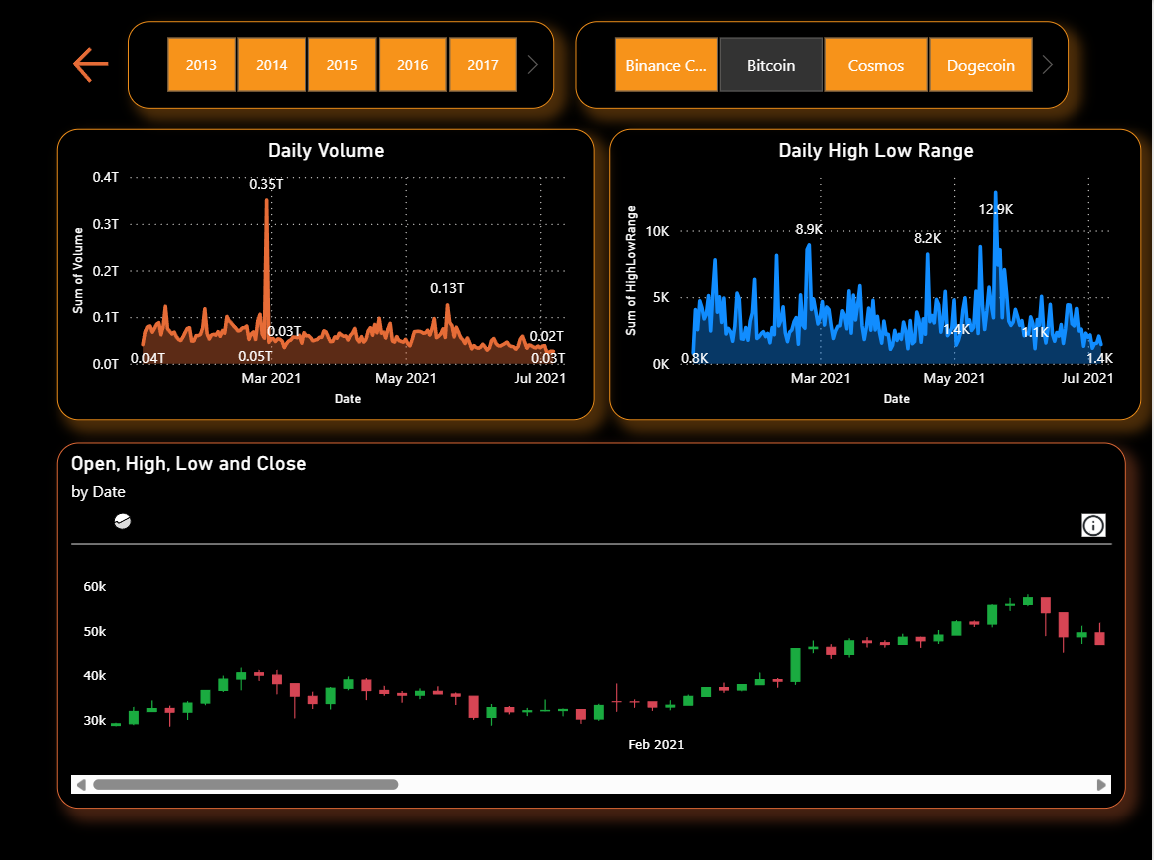

The page's visual inventory and layout, read from the dashboard file:
{"tool":"powerbi","page":{"name":"Trends Analysis","canvas":[960,720],"ordinal":1},"visuals":[{"type":"slicer","fields":{"Values":["CryptoDataSet.Name"]},"box":[480.1,17.7,410.5,72.7],"z":0},{"type":"slicer","fields":{"Values":["CryptoDataSet.Year"]},"box":[108.1,17.7,354.4,72.7],"z":1},{"type":"actionButton","box":[58.2,34.3,99.8,39.5],"z":2},{"type":"areaChart","title":"Daily Volume  ","fields":{"Category":["CryptoDataSet.Date"],"Y":["Sum(CryptoDataSet.Volume)"]},"box":[48.8,107,446.9,242.1],"z":3},{"type":"areaChart","title":"Daily High Low Range  ","fields":{"Category":["CryptoDataSet.Date"],"Y":["Sum(CryptoDataSet.HighLowRange)"]},"box":[508.2,107,442.7,242.1],"z":4},{"type":"candlestick95C27C147643B5E840B1D29AC39783F7","fields":{"col_1":["Sum(CryptoDataSet.Open)"],"col_2":["Sum(CryptoDataSet.High)"],"col_3":["Sum(CryptoDataSet.Low)"],"col_4":["Sum(CryptoDataSet.Close)"],"col_0":["CryptoDataSet.Date"]},"box":[48.8,367.9,888.6,304.5],"z":5}]}

Visuals, with their boxes in screenshot pixels (x1, y1, x2, y2), scaled from the page's 960x720 canvas onto the 1154x860 screenshot:
slicer - CryptoDataSet.Name: Rect(577, 21, 1071, 108)
slicer - CryptoDataSet.Year: Rect(130, 21, 556, 108)
actionButton: Rect(70, 41, 190, 88)
"Daily Volume  " areaChart: Rect(59, 128, 596, 417)
"Daily High Low Range  " areaChart: Rect(611, 128, 1143, 417)
candlestick95C27C147643B5E840B1D29AC39783F7 - Sum(CryptoDataSet.Open) x Sum(CryptoDataSet.High): Rect(59, 439, 1127, 803)
